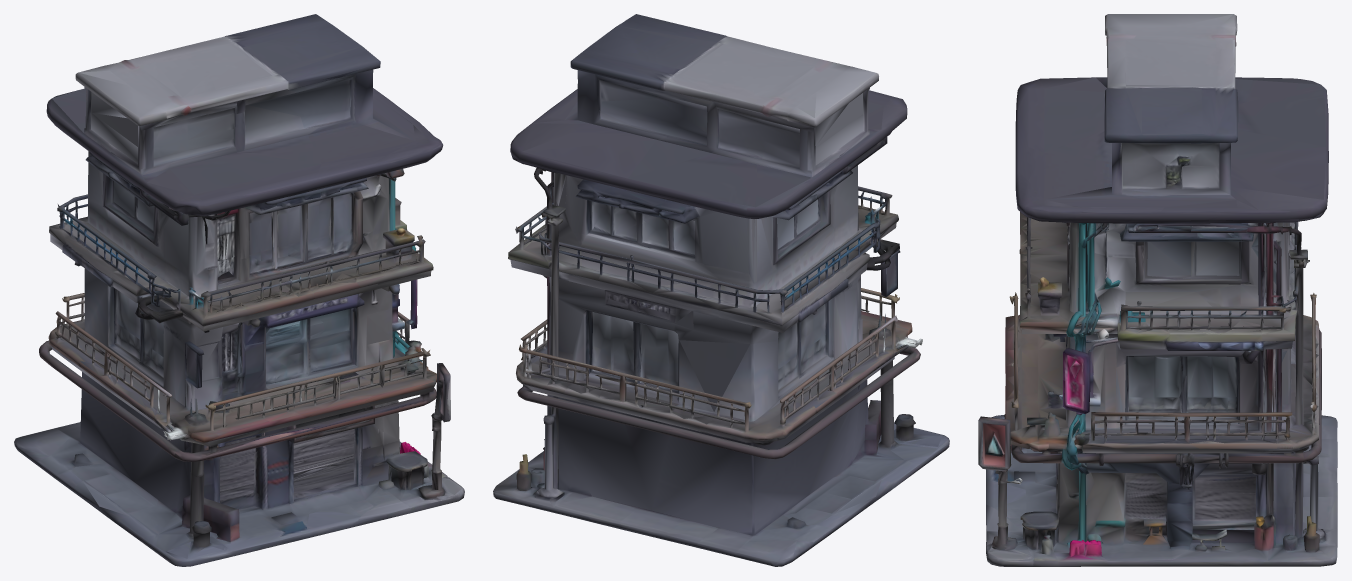
File: bld_kuro_apartment3f.fbx
The picture shows the model from 3 angles, left to right: view 1: azimuth 30°, elevation 25°; view 2: azimuth 150°, elevation 25°; view 3: azimuth 270°, elevation 25°; orthographic projection. The views are drawn at different scales.
Visible parts, largest first — view 1: bld_kuro_apartment3f_LOD0; view 2: bld_kuro_apartment3f_LOD0; view 3: bld_kuro_apartment3f_LOD0.
Boxes of the visible parts, x1,y1,x2,y2 form: bld_kuro_apartment3f_LOD0: (14,14,464,566); bld_kuro_apartment3f_LOD0: (493,14,949,566); bld_kuro_apartment3f_LOD0: (978,14,1337,566).
Size of what is drawn, in the model's own units: 0.7479 by 0.9787 by 0.7644.
